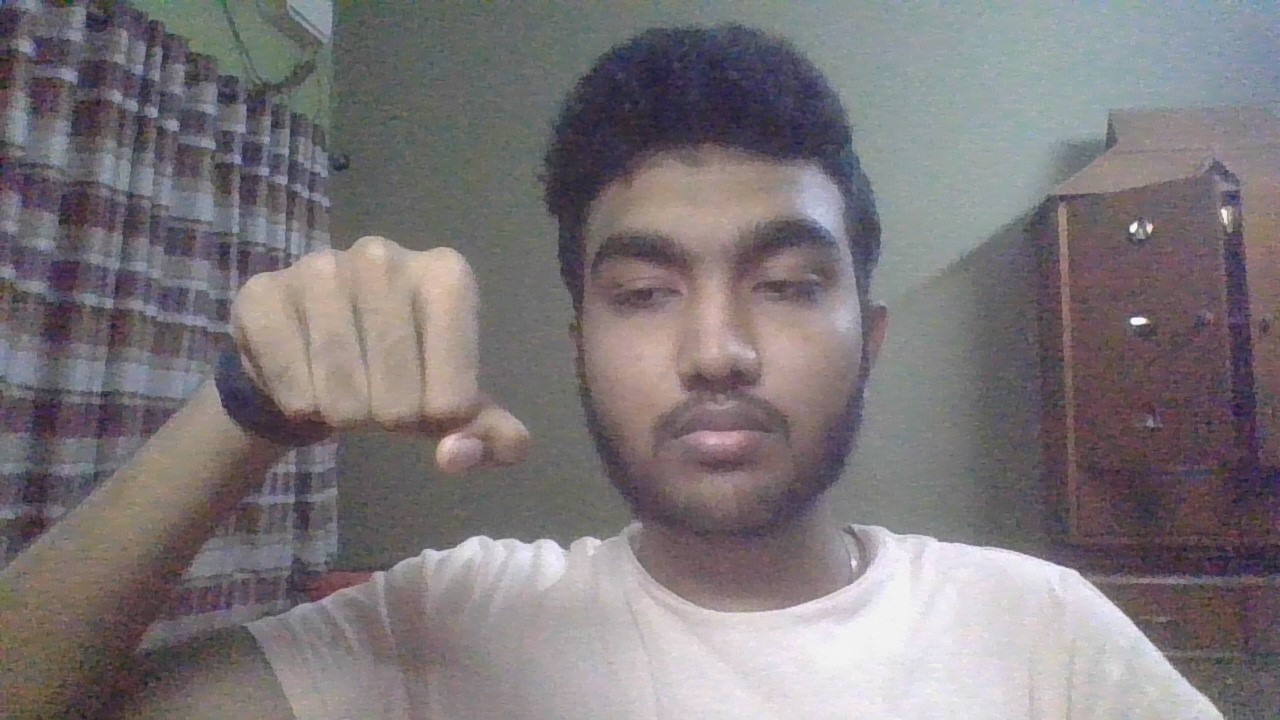Yes: (204, 211, 547, 509)
